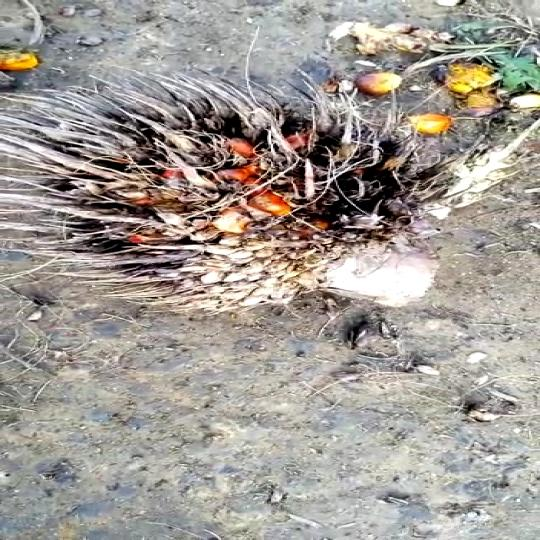terlalu masak: (0, 68, 462, 345)
